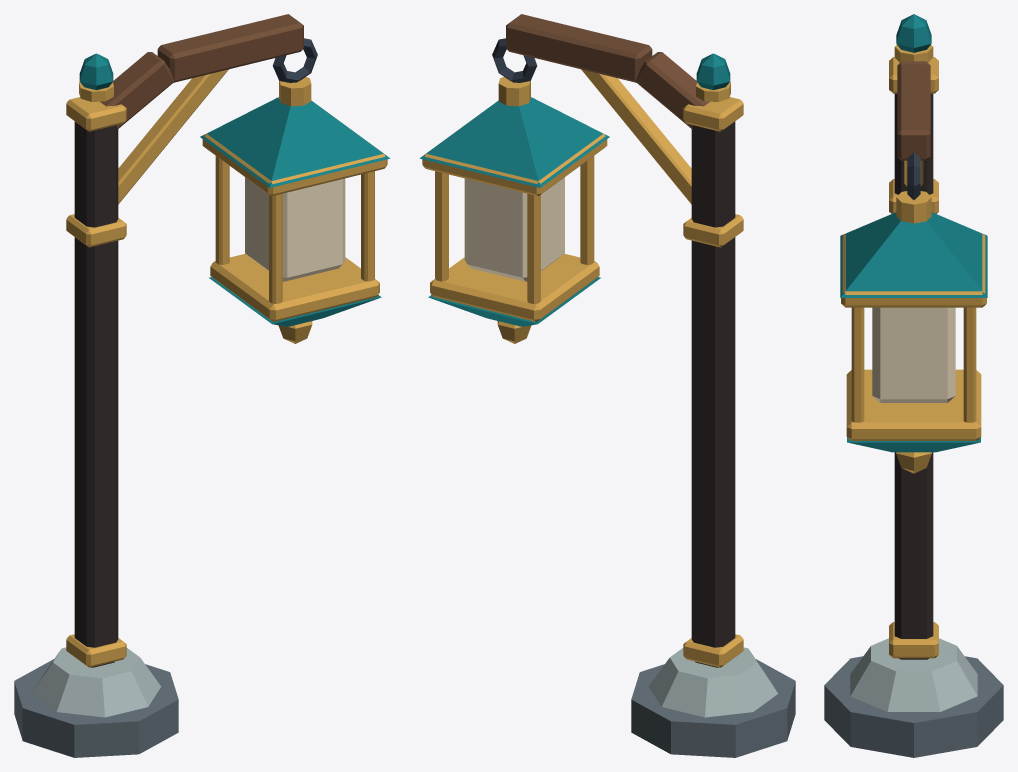
Rendered from 21_Lantern_Post.glb.
3 views of the same model, side by side, from view 1: azimuth 30°, elevation 25°; view 2: azimuth 150°, elevation 25°; view 3: azimuth 270°, elevation 25° (orthographic). The views are drawn at different scales.
Visible parts, largest first — view 1: 21_Lantern_Post__Body; view 2: 21_Lantern_Post__Body; view 3: 21_Lantern_Post__Body.
Boxes of the visible parts, left/top/right/bottom form: 21_Lantern_Post__Body: left=14, top=14, right=390, bottom=757; 21_Lantern_Post__Body: left=419, top=14, right=795, bottom=757; 21_Lantern_Post__Body: left=824, top=14, right=1003, bottom=757.
Size of the model in its own units: 2.53 by 4.86 by 1.12.
1 material, 1 textured.
